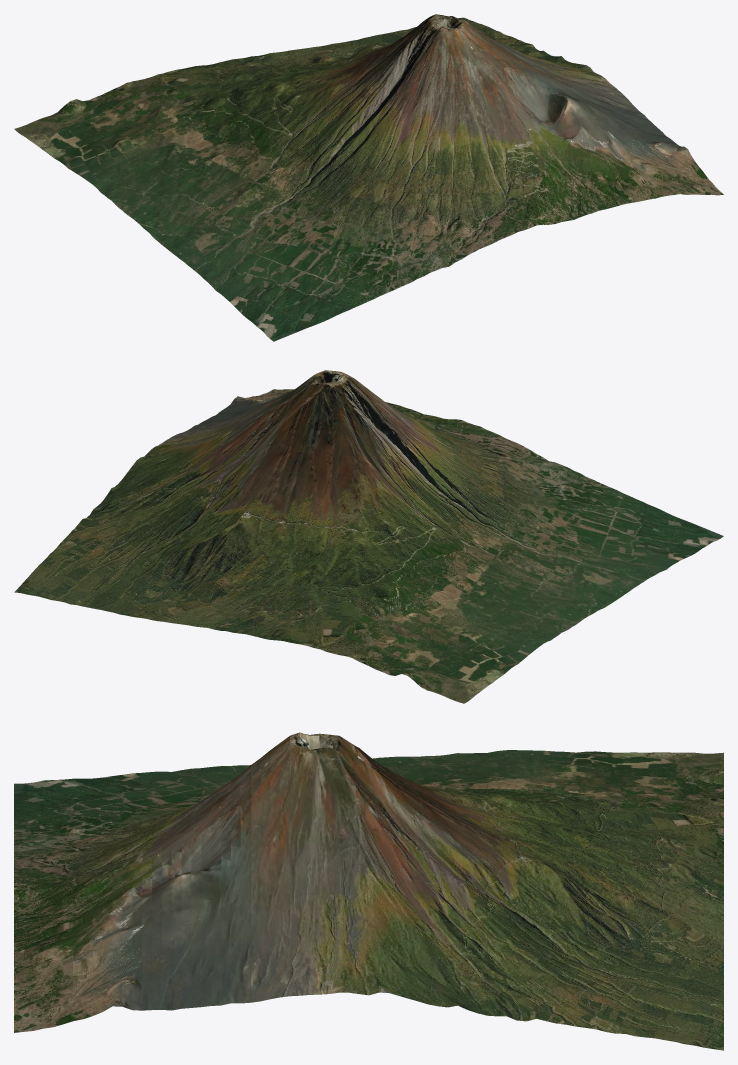
3 renders of one model, top to bottom at view 1: azimuth 30°, elevation 25°; view 2: azimuth 150°, elevation 25°; view 3: azimuth 270°, elevation 25°, orthographic. The views are drawn at different scales.
Visible parts, largest first — view 1: Layer 01; view 2: Layer 01; view 3: Layer 01.
Part boxes in pixels (box(x1,y1,x2,y2)): Layer 01: box(14, 14, 723, 341); Layer 01: box(14, 370, 723, 703); Layer 01: box(14, 732, 723, 1050).
Size of the model in its own units: 0.402 by 0.1466 by 0.402.
Materials: 1 (1 with a texture image).
